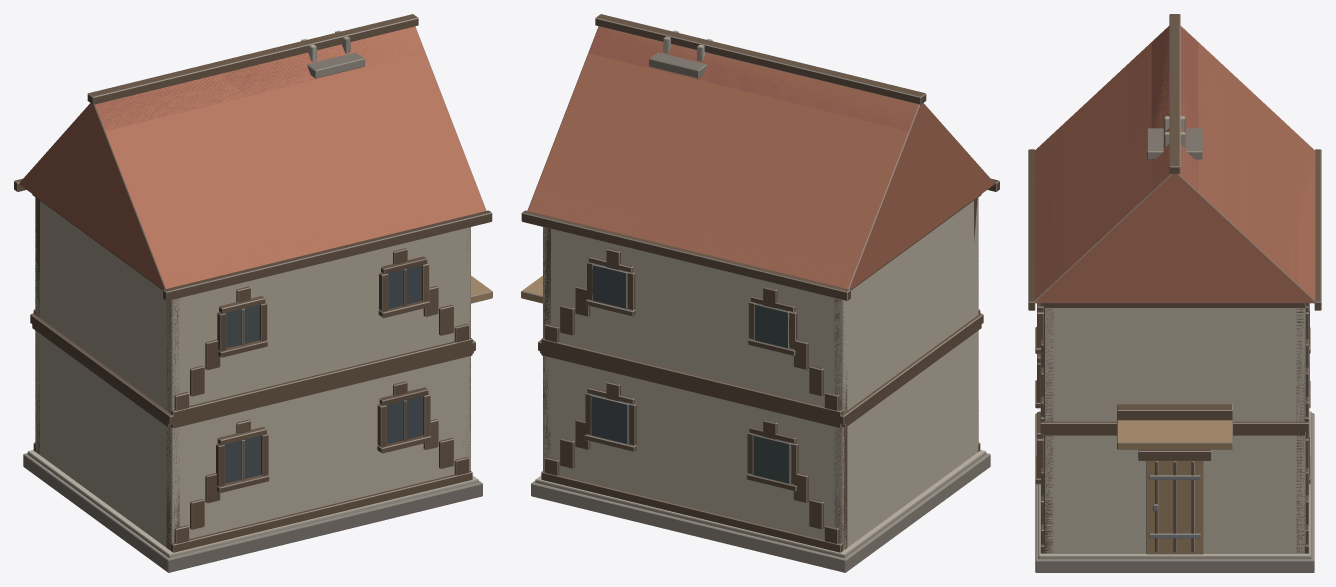
Rendered from SM_Kit_casa_b.fbx.
The picture shows the model from 3 angles, left to right: view 1: azimuth 30°, elevation 25°; view 2: azimuth 150°, elevation 25°; view 3: azimuth 270°, elevation 25°; orthographic projection. The views are drawn at different scales.
Visible parts, largest first — view 1: SM_Kit_casa_b; view 2: SM_Kit_casa_b; view 3: SM_Kit_casa_b.
Part boxes in pixels (x1,y1,x2,y2): SM_Kit_casa_b: (14,14,492,572); SM_Kit_casa_b: (521,14,999,572); SM_Kit_casa_b: (1028,14,1321,572).
Size of what is drawn, in the model's own units: 821 by 897 by 582.
